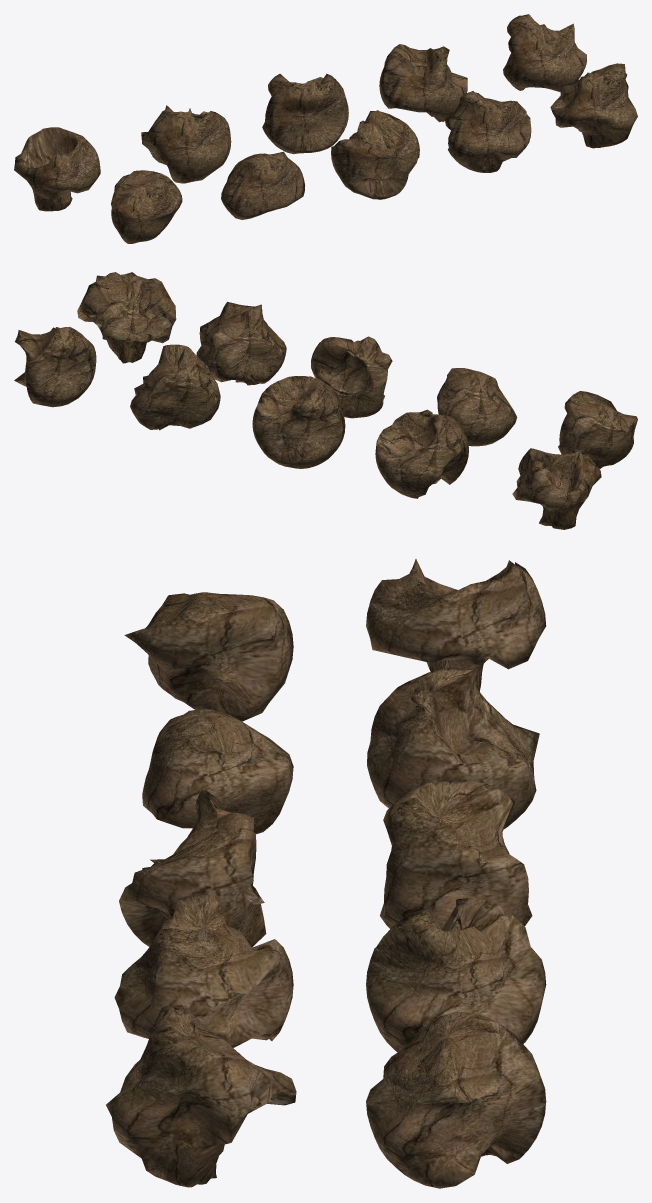
Rendered from AsteroidGroup_LightBrown.fbx.
The picture shows the model from 3 angles, top to bottom: view 1: azimuth 30°, elevation 25°; view 2: azimuth 150°, elevation 25°; view 3: azimuth 270°, elevation 25°; orthographic projection. The views are drawn at different scales.
Parts seen in each view (by area): view 1: ast3, ast8, ast2, ast6, ast1, ast9, ast7, ast10, ast4, ast5; view 2: ast8, ast7, ast1, ast9, ast2, ast10, ast6, ast3, ast5, ast4; view 3: ast10, ast9, ast1, ast2, ast7, ast8, ast5, ast6, ast4, ast3.
Boxes of the visible parts, <box> form: ast3: <box>331,110,419,199</box>; ast8: <box>262,73,348,154</box>; ast2: <box>445,91,531,172</box>; ast6: <box>14,127,100,211</box>; ast1: <box>550,63,637,148</box>; ast9: <box>379,44,467,122</box>; ast7: <box>141,105,231,183</box>; ast10: <box>503,14,586,92</box>; ast4: <box>221,151,305,219</box>; ast5: <box>111,170,182,243</box>; ast8: <box>252,376,345,468</box>; ast7: <box>375,409,468,498</box>; ast1: <box>77,272,176,363</box>; ast9: <box>130,344,220,430</box>; ast2: <box>196,302,286,385</box>; ast10: <box>14,327,96,407</box>; ast6: <box>512,448,601,529</box>; ast3: <box>311,336,392,418</box>; ast5: <box>558,391,637,469</box>; ast4: <box>437,368,517,446</box>; ast10: <box>366,1011,546,1188</box>; ast9: <box>366,897,546,1052</box>; ast1: <box>106,1005,296,1187</box>; ast2: <box>114,895,293,1047</box>; ast7: <box>367,667,539,828</box>; ast8: <box>380,779,532,929</box>; ast5: <box>124,592,293,721</box>; ast6: <box>366,559,546,691</box>; ast4: <box>142,709,293,834</box>; ast3: <box>119,790,266,947</box>.
Bounding box in the file's own units: 142 × 49.53 × 20.57.
Materials: 1 (1 with a texture image).
